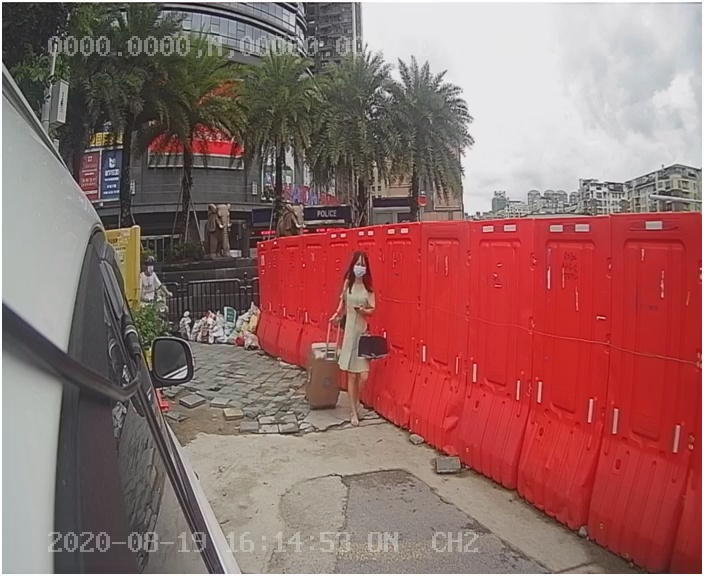person: (324, 244, 392, 432)
